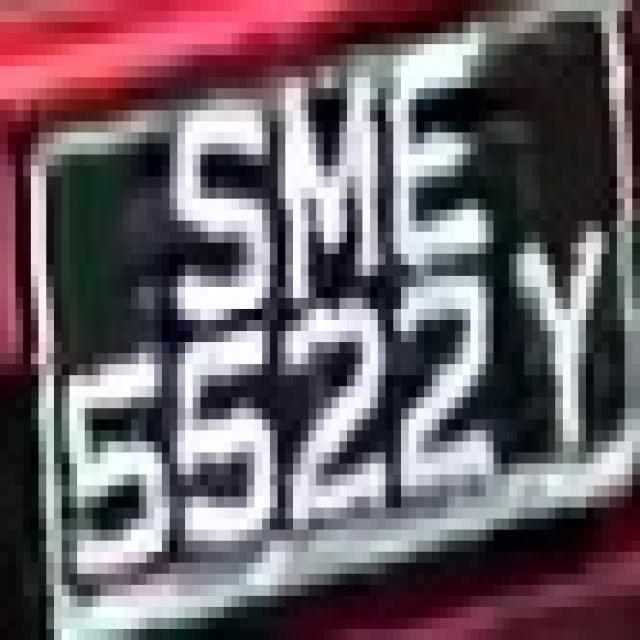2: (262, 298, 401, 552), (386, 287, 516, 519)
5: (30, 342, 170, 629), (139, 320, 293, 574)
E: (370, 33, 486, 287)
M: (247, 88, 378, 353)
S: (139, 77, 285, 342)
Y: (494, 210, 609, 430)
